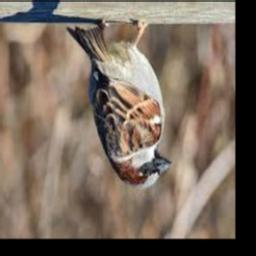Sparrow: (66, 19, 172, 189)
